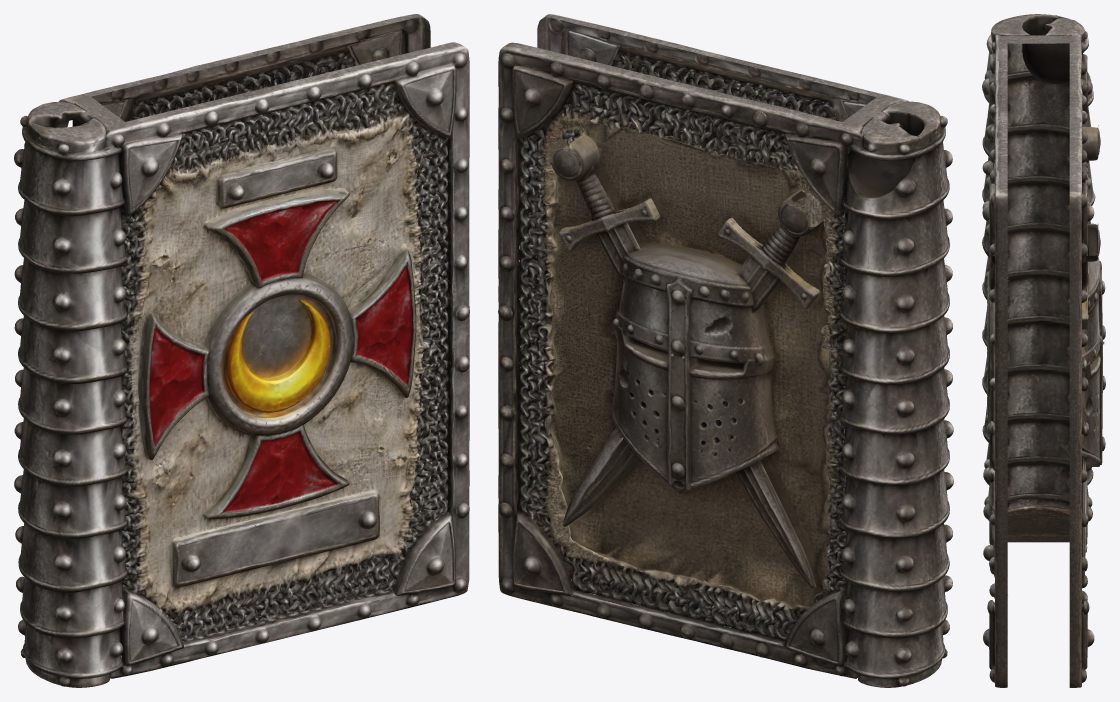
Rendered from crusaders.glb.
3 views of the same model, side by side, from view 1: azimuth 30°, elevation 25°; view 2: azimuth 150°, elevation 25°; view 3: azimuth 270°, elevation 25° (orthographic). The views are drawn at different scales.
Parts seen in each view (by area): view 1: F_linen, S_spine, F_cover, B_cover, F_plateB, F_ring, A0, A2, A3, A1, S_rest, F_moon (+7 smaller); view 2: B_cloth, S_spine, B_cover, B_helm, B_swords, F_cover, S_rest, BK_p33, BK_p27, BK_p32, BK_p8, FK_p28; view 3: S_spine, B_cover, F_cover, S_rest, B_helm, B_swords, F_ring, A1, FK_p28, BK_p8, BK_p33, FK_p31 (+4 smaller).
Boxes of the visible parts, bbox=[...] form: F_linen: bbox=[122, 112, 423, 615]; S_spine: bbox=[14, 119, 128, 678]; F_cover: bbox=[125, 42, 469, 674]; B_cover: bbox=[86, 14, 430, 600]; F_plateB: bbox=[170, 490, 380, 587]; F_ring: bbox=[204, 273, 353, 436]; A0: bbox=[204, 188, 349, 288]; A2: bbox=[203, 425, 349, 519]; A3: bbox=[137, 311, 209, 460]; A1: bbox=[348, 247, 416, 397]; S_rest: bbox=[20, 93, 132, 687]; F_moon: bbox=[223, 299, 330, 412]; B_cloth: bbox=[542, 111, 845, 608]; S_spine: bbox=[837, 127, 953, 678]; B_cover: bbox=[498, 42, 841, 675]; B_helm: bbox=[562, 242, 777, 526]; B_swords: bbox=[546, 134, 823, 587]; F_cover: bbox=[537, 14, 880, 601]; S_rest: bbox=[835, 94, 947, 687]; BK_p33: bbox=[512, 511, 575, 595]; BK_p27: bbox=[783, 588, 848, 667]; BK_p32: bbox=[784, 133, 847, 216]; BK_p8: bbox=[512, 64, 575, 138]; FK_p28: bbox=[560, 29, 620, 88]; S_spine: bbox=[982, 34, 1095, 520]; B_cover: bbox=[1069, 43, 1089, 687]; F_cover: bbox=[987, 43, 1007, 687]; S_rest: bbox=[991, 14, 1087, 542]; B_helm: bbox=[1082, 257, 1105, 584]; B_swords: bbox=[1081, 125, 1100, 329]; F_ring: bbox=[987, 272, 994, 421]; A1: bbox=[989, 342, 994, 470]; FK_p28: bbox=[982, 180, 995, 263]; BK_p8: bbox=[1081, 179, 1094, 263]; BK_p33: bbox=[1082, 603, 1094, 669]; FK_p31: bbox=[983, 613, 994, 669].
Size of the model in its own units: 0.7794 by 0.9767 by 0.2194.
Materials: 1 (1 with a texture image).
